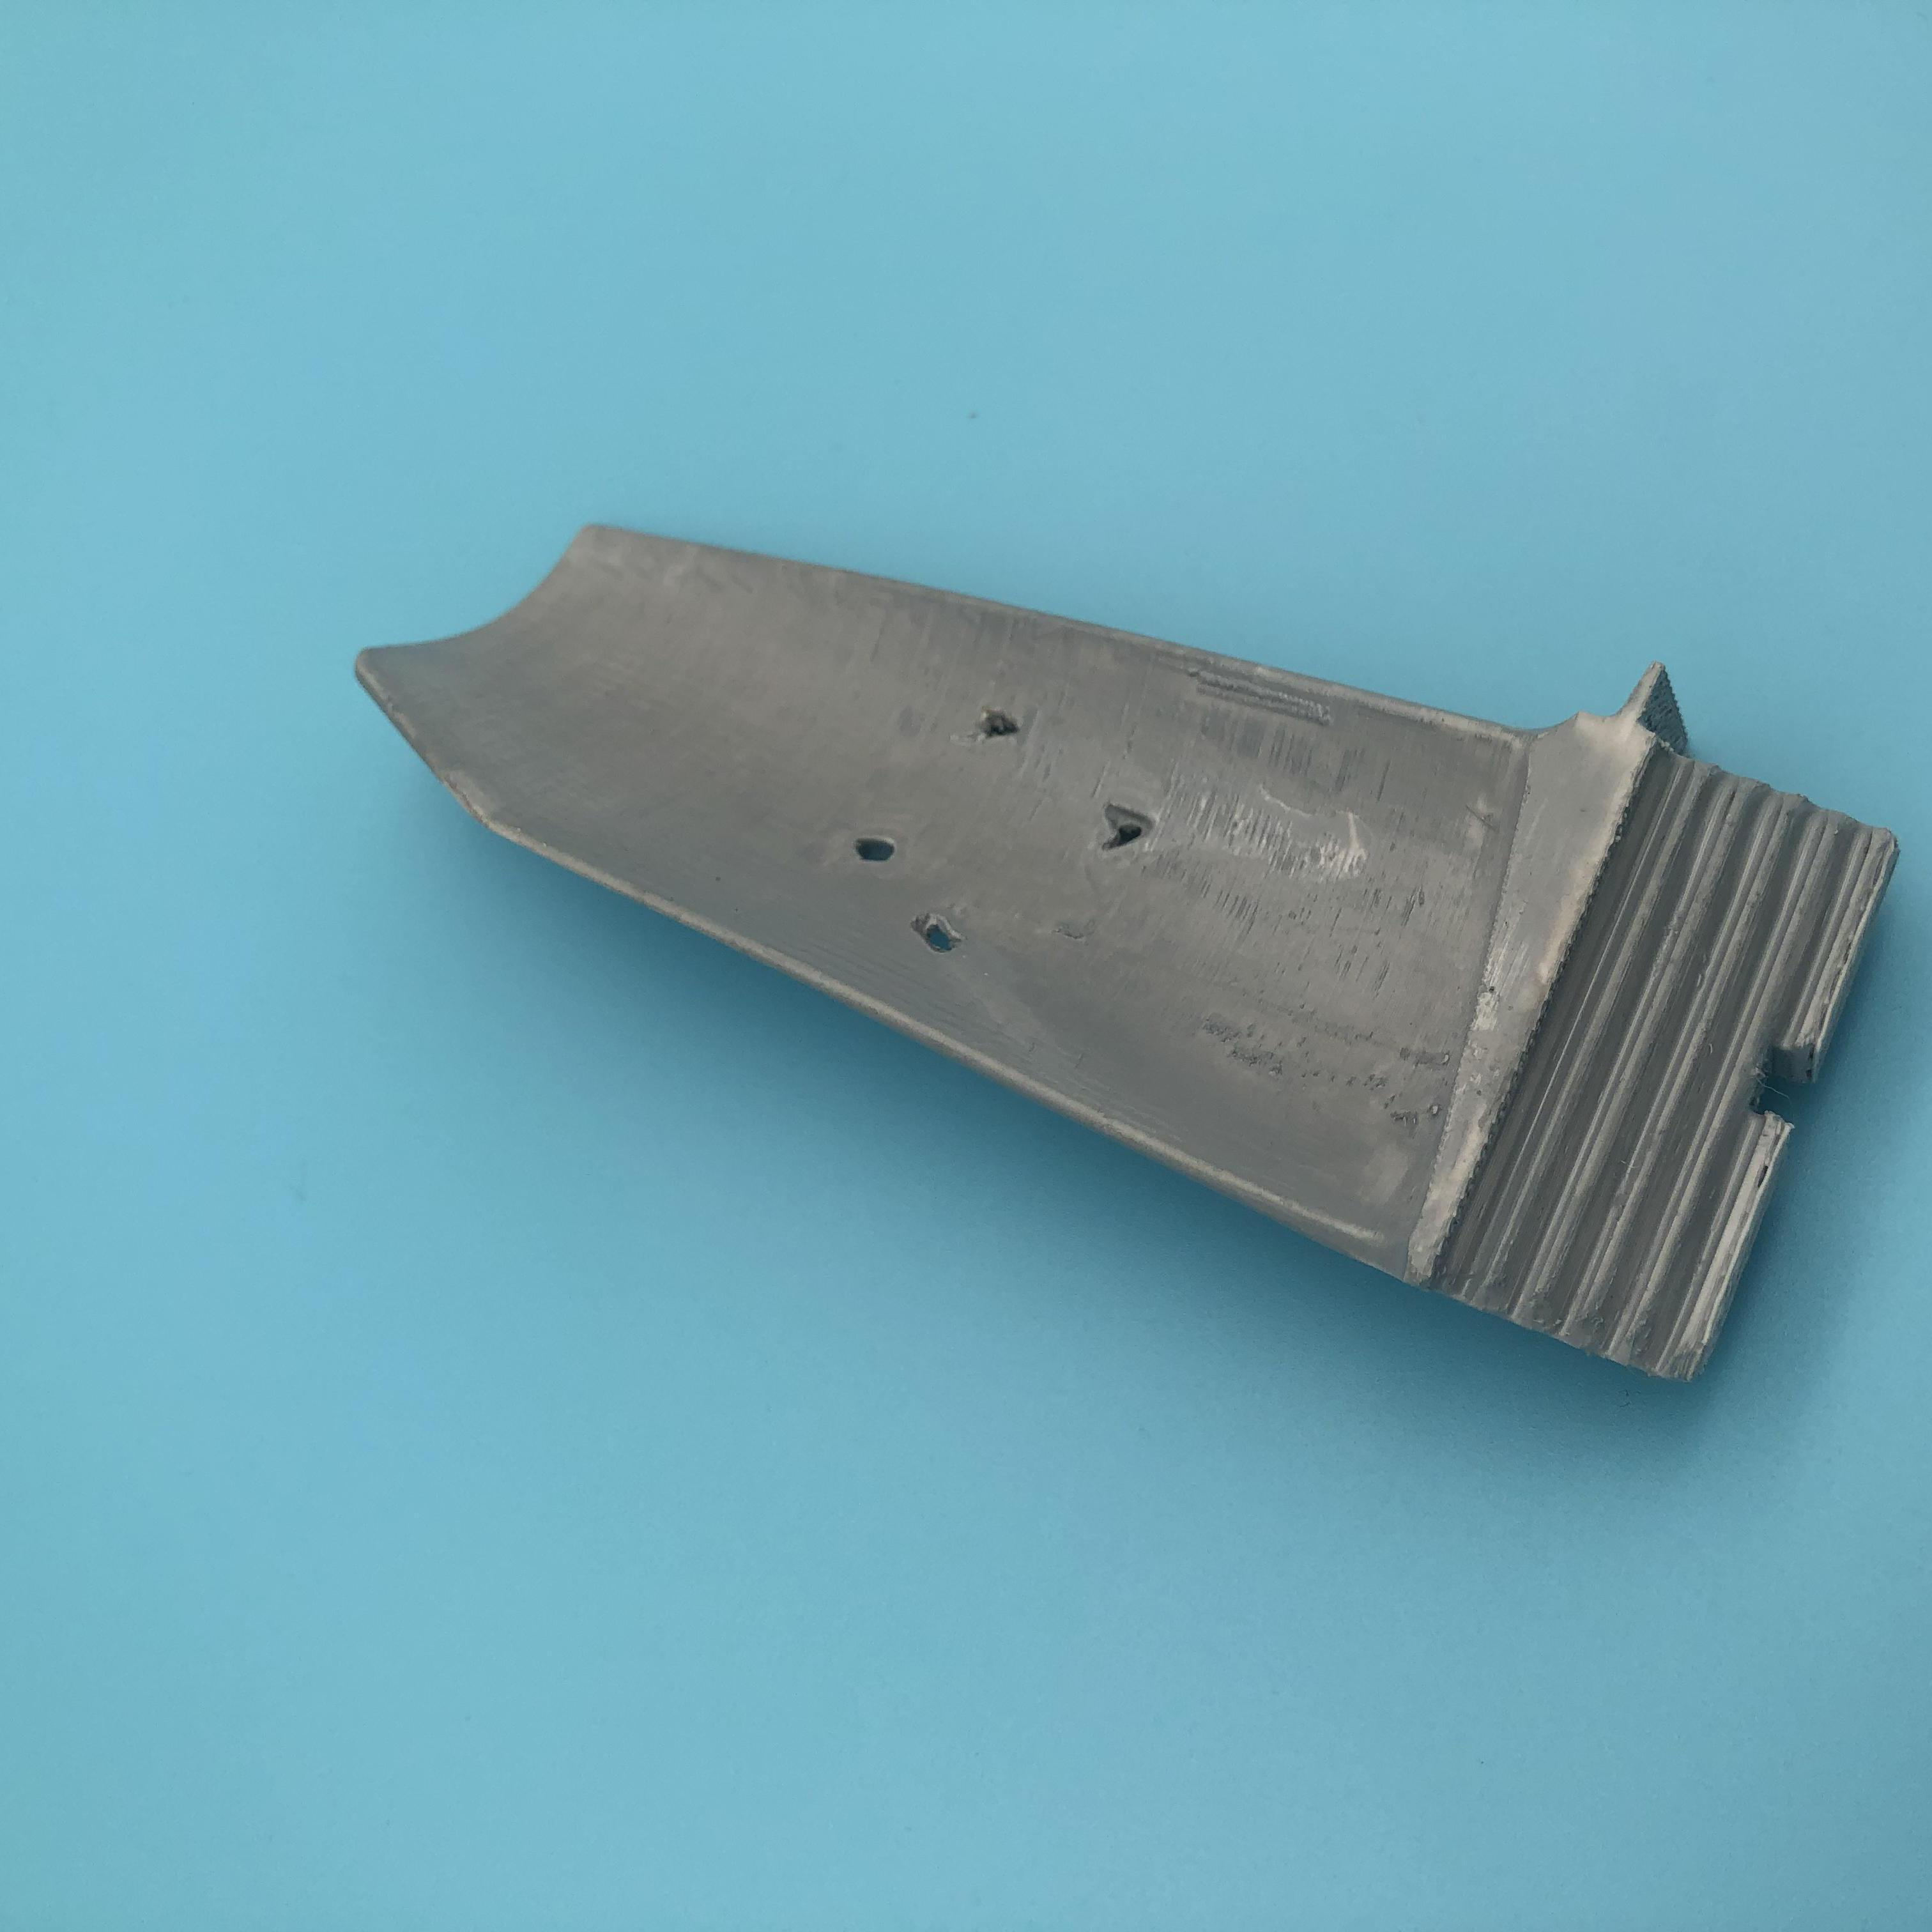breakdown: (860, 708, 1139, 948)
